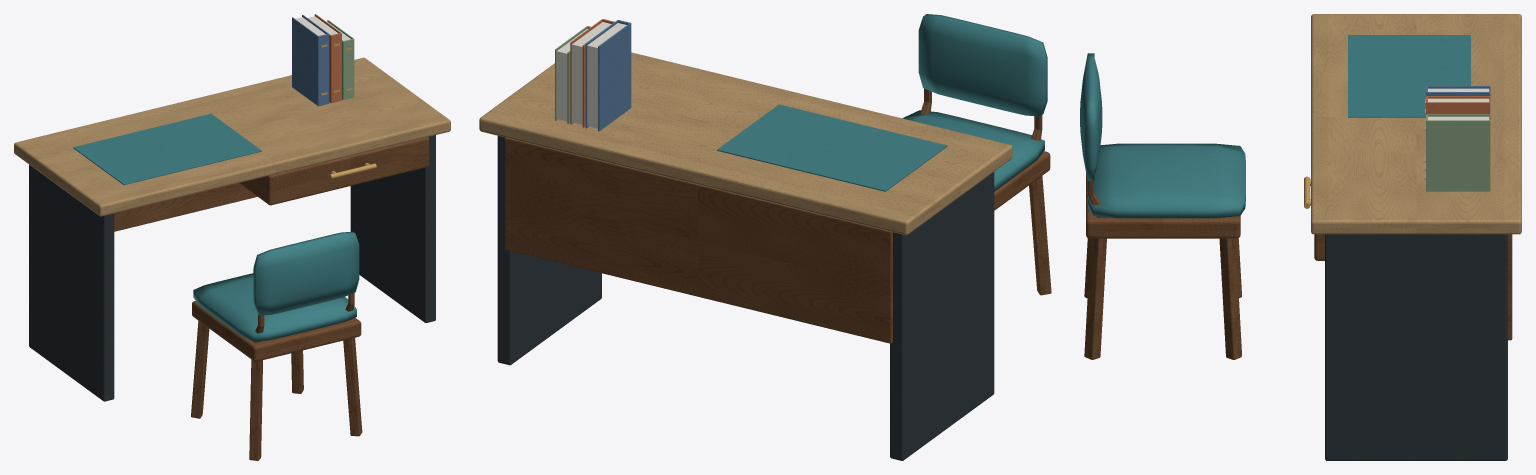
The model's file is desk-with-chair-original-hotel-furnishing.glb.
The picture shows the model from 3 angles, left to right: view 1: azimuth 30°, elevation 25°; view 2: azimuth 150°, elevation 25°; view 3: azimuth 270°, elevation 25°; orthographic projection. The views are drawn at different scales.
Visible parts, largest first — view 1: Writing desk top, Desk end frame, Desk end frame.001, Desk writing mat, Closed upholstered back, Desk shallow drawer, Closed upholstered seat, Seat frame, Desk modesty panel, Book cover, Tapered chair leg.003, Tapered chair leg.001 (+5 smaller); view 2: Desk modesty panel, Writing desk top, Desk end frame, Desk writing mat, Closed upholstered back, Desk end frame.001, Closed upholstered seat, Book cover, Tapered chair leg.003, Unprinted book page block, Unprinted book page block.001, Seat frame (+1 smaller); view 3: Desk end frame.001, Writing desk top, Closed upholstered seat, Desk writing mat, Book cover.005, Seat frame, Closed upholstered back, Tapered chair leg.001, Tapered chair leg, Book cover.003, Desk modesty panel.
Part boxes in pixels (x1=…): Writing desk top: x1=14, y1=57, x2=450, y2=216; Desk end frame: x1=29, y1=164, x2=114, y2=401; Desk end frame.001: x1=350, y1=135, x2=435, y2=322; Desk writing mat: x1=73, y1=113, x2=261, y2=185; Closed upholstered back: x1=253, y1=231, x2=359, y2=315; Desk shallow drawer: x1=239, y1=137, x2=429, y2=205; Closed upholstered seat: x1=193, y1=273, x2=356, y2=341; Seat frame: x1=192, y1=301, x2=361, y2=361; Desk modesty panel: x1=114, y1=183, x2=257, y2=231; Book cover: x1=292, y1=17, x2=318, y2=105; Tapered chair leg.003: x1=249, y1=359, x2=262, y2=460; Tapered chair leg.001: x1=343, y1=338, x2=362, y2=436; Desk modesty panel: x1=505, y1=137, x2=892, y2=343; Writing desk top: x1=479, y1=52, x2=1012, y2=235; Desk end frame: x1=890, y1=172, x2=994, y2=460; Desk writing mat: x1=717, y1=104, x2=947, y2=191; Closed upholstered back: x1=918, y1=14, x2=1047, y2=116; Desk end frame.001: x1=497, y1=136, x2=601, y2=365; Closed upholstered seat: x1=902, y1=110, x2=1044, y2=191; Book cover: x1=598, y1=23, x2=630, y2=131; Tapered chair leg.003: x1=1029, y1=176, x2=1051, y2=295; Unprinted book page block: x1=587, y1=23, x2=626, y2=128; Unprinted book page block.001: x1=572, y1=22, x2=611, y2=124; Seat frame: x1=994, y1=151, x2=1050, y2=210; Desk end frame.001: x1=1325, y1=234, x2=1507, y2=460; Writing desk top: x1=1311, y1=14, x2=1521, y2=234; Closed upholstered seat: x1=1087, y1=143, x2=1245, y2=218; Desk writing mat: x1=1348, y1=35, x2=1470, y2=117; Book cover.005: x1=1427, y1=120, x2=1490, y2=191; Seat frame: x1=1086, y1=173, x2=1240, y2=238; Closed upholstered back: x1=1080, y1=53, x2=1102, y2=180; Tapered chair leg.001: x1=1084, y1=238, x2=1106, y2=359; Tapered chair leg: x1=1219, y1=238, x2=1241, y2=359; Book cover.003: x1=1427, y1=102, x2=1490, y2=114; Desk modesty panel: x1=1508, y1=234, x2=1512, y2=340.
Size of the model in its own units: 1.4 by 1.04 by 1.26.
9 materials, 9 textured.
